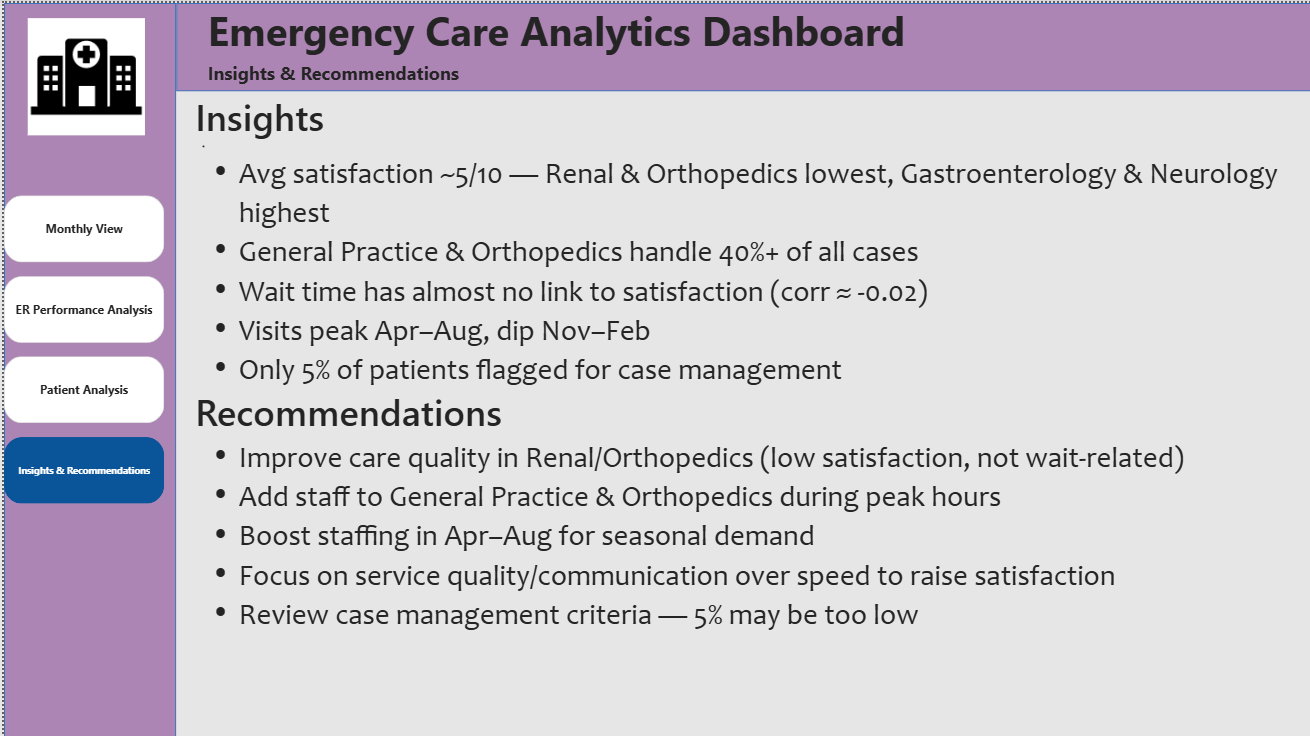

Layout of this report page (visuals, bound fields, positions):
{"tool":"powerbi","page":{"name":"Insights & Recommendations","canvas":[1920,1080],"ordinal":3},"visuals":[{"type":"shape","box":[0,0,252.5,1081],"z":0},{"type":"shape","box":[252.5,0,1667.5,129.4],"z":1000},{"type":"textbox","box":[298.4,0,1621.6,116.9],"z":2000},{"type":"textbox","box":[298.4,83.5,371.5,64.7],"z":3000},{"type":"textbox","box":[280,130,1640,950],"z":4000},{"type":"pageNavigator","box":[0,281.8,235.3,454.2],"z":5000},{"type":"image","box":[35.2,11.1,172.4,194.6],"z":5001}]}

Visuals, with their boxes in screenshot pixels (x1, y1, x2, y2), scaled from the page's 1920x1080 canvas onto the 1310x736 screenshot:
shape: box(0, 0, 172, 735)
shape: box(172, 0, 1309, 88)
textbox: box(204, 0, 1309, 80)
textbox: box(204, 57, 457, 101)
textbox: box(191, 89, 1309, 735)
pageNavigator: box(0, 192, 161, 502)
image: box(24, 8, 142, 140)
